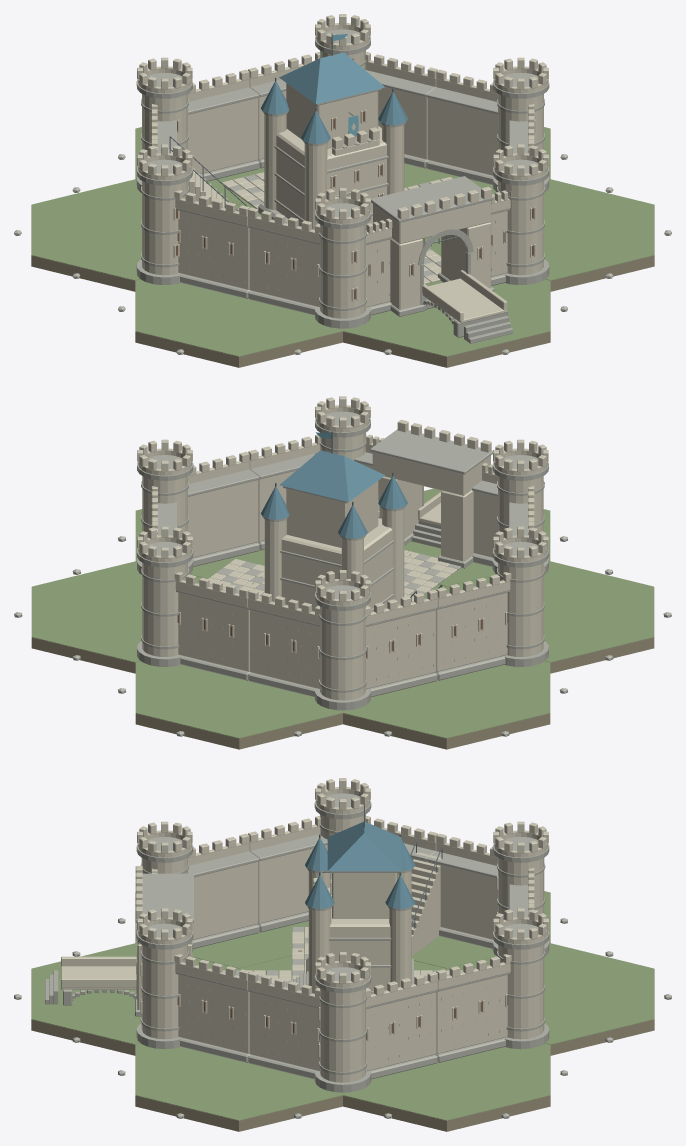
Rendered from EH-001.sunward-castle.glb.
The picture shows the model from 3 angles, top to bottom: view 1: azimuth 30°, elevation 25°; view 2: azimuth 150°, elevation 25°; view 3: azimuth 270°, elevation 25°; orthographic projection.
Parts seen in each view (by area): view 1: friendly-013/EH-001 Sunward friendly castle keep batched, friendly-005/EH-008 Seven metre hex terrain foundation batch, friendly-028/EH-004 Open passage castle gatehouse batched, friendly-006/EH-008 Seven metre hex terrain foundation batch, friendly-003/EH-008 Seven metre hex terrain foundation batch, friendly-004/EH-008 Seven metre hex terrain foundation batch, friendly-020/EH-003 Six metre curtain wall walk batched, friendly-018/EH-005 Round corner watchtower batched, friendly-023/EH-003 Six metre curtain wall walk batched, friendly-026/EH-003 Six metre curtain wall walk batched, friendly-027/EH-003 Six metre curtain wall walk batched, friendly-017/EH-005 Round corner watchtower batched (+17 smaller); view 2: friendly-013/EH-001 Sunward friendly castle keep batched, friendly-006/EH-008 Seven metre hex terrain foundation batch, friendly-007/EH-008 Seven metre hex terrain foundation batch, friendly-005/EH-008 Seven metre hex terrain foundation batch, friendly-002/EH-008 Seven metre hex terrain foundation batch, friendly-028/EH-004 Open passage castle gatehouse batched, friendly-032/EH-003 Six metre curtain wall walk batched, friendly-016/EH-005 Round corner watchtower batched, friendly-022/EH-003 Six metre curtain wall walk batched, friendly-025/EH-003 Six metre curtain wall walk batched, friendly-024/EH-003 Six metre curtain wall walk batched, friendly-023/EH-003 Six metre curtain wall walk batched (+14 smaller); view 3: friendly-013/EH-001 Sunward friendly castle keep batched, friendly-003/EH-008 Seven metre hex terrain foundation batch, friendly-002/EH-008 Seven metre hex terrain foundation batch, friendly-007/EH-008 Seven metre hex terrain foundation batch, friendly-014/EH-005 Round corner watchtower batched, friendly-021/EH-003 Six metre curtain wall walk batched, friendly-031/EH-003 Six metre curtain wall walk batched, friendly-027/EH-003 Six metre curtain wall walk batched, friendly-020/EH-003 Six metre curtain wall walk batched, friendly-032/EH-003 Six metre curtain wall walk batched, friendly-004/EH-008 Seven metre hex terrain foundation batch, friendly-019/EH-005 Round corner watchtower batched (+15 smaller).
Boxes of the visible parts, box(x1,y1,x2,y2) form: friendly-013/EH-001 Sunward friendly castle keep batched: box(258, 33, 407, 229); friendly-005/EH-008 Seven metre hex terrain foundation batch: box(118, 279, 342, 367); friendly-028/EH-004 Open passage castle gatehouse batched: box(371, 176, 494, 316); friendly-006/EH-008 Seven metre hex terrain foundation batch: box(14, 179, 238, 291); friendly-003/EH-008 Seven metre hex terrain foundation batch: box(492, 179, 671, 291); friendly-004/EH-008 Seven metre hex terrain foundation batch: box(343, 279, 567, 367); friendly-020/EH-003 Six metre curtain wall walk batched: box(426, 69, 498, 184); friendly-018/EH-005 Round corner watchtower batched: box(315, 188, 370, 328); friendly-023/EH-003 Six metre curtain wall walk batched: box(188, 69, 259, 181); friendly-026/EH-003 Six metre curtain wall walk batched: box(174, 190, 259, 298); friendly-027/EH-003 Six metre curtain wall walk batched: box(248, 207, 320, 315); friendly-017/EH-005 Round corner watchtower batched: box(136, 144, 192, 284); friendly-013/EH-001 Sunward friendly castle keep batched: box(261, 431, 407, 611); friendly-006/EH-008 Seven metre hex terrain foundation batch: box(343, 661, 567, 749); friendly-007/EH-008 Seven metre hex terrain foundation batch: box(118, 661, 342, 749); friendly-005/EH-008 Seven metre hex terrain foundation batch: box(446, 561, 671, 673); friendly-002/EH-008 Seven metre hex terrain foundation batch: box(14, 561, 201, 673); friendly-028/EH-004 Open passage castle gatehouse batched: box(370, 419, 492, 568); friendly-032/EH-003 Six metre curtain wall walk batched: box(188, 452, 259, 566); friendly-016/EH-005 Round corner watchtower batched: box(315, 570, 370, 710); friendly-022/EH-003 Six metre curtain wall walk batched: box(174, 572, 259, 680); friendly-025/EH-003 Six metre curtain wall walk batched: box(426, 572, 511, 680); friendly-024/EH-003 Six metre curtain wall walk batched: box(365, 589, 437, 697); friendly-023/EH-003 Six metre curtain wall walk batched: box(248, 589, 319, 697); friendly-013/EH-001 Sunward friendly castle keep batched: box(286, 805, 415, 993); friendly-003/EH-008 Seven metre hex terrain foundation batch: box(118, 1043, 342, 1131); friendly-002/EH-008 Seven metre hex terrain foundation batch: box(343, 1043, 567, 1131); friendly-007/EH-008 Seven metre hex terrain foundation batch: box(447, 943, 671, 1055); friendly-014/EH-005 Round corner watchtower batched: box(314, 952, 371, 1092); friendly-021/EH-003 Six metre curtain wall walk batched: box(426, 954, 511, 1062); friendly-031/EH-003 Six metre curtain wall walk batched: box(174, 954, 259, 1062); friendly-027/EH-003 Six metre curtain wall walk batched: box(188, 833, 259, 948); friendly-020/EH-003 Six metre curtain wall walk batched: box(365, 971, 437, 1079); friendly-032/EH-003 Six metre curtain wall walk batched: box(248, 971, 320, 1079); friendly-004/EH-008 Seven metre hex terrain foundation batch: box(14, 943, 238, 1055); friendly-019/EH-005 Round corner watchtower batched: box(136, 908, 193, 1049).
Bounding box in the file's own units: 35 × 12.86 × 38.39.
